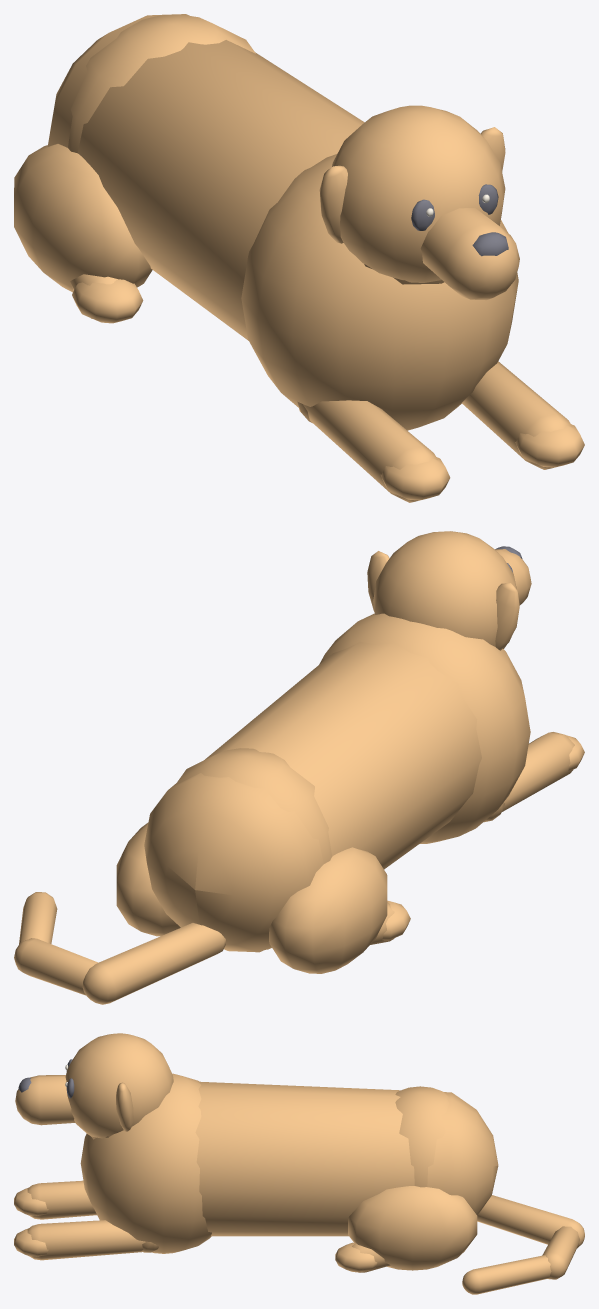
The model's file is companion-animals-and-pet-home-dog-retriever-lie-18e73fbd__20574.glb.
The picture shows the model from 3 angles, top to bottom: view 1: azimuth 30°, elevation 25°; view 2: azimuth 150°, elevation 25°; view 3: azimuth 270°, elevation 25°; orthographic projection. The views are drawn at different scales.
Visible parts, largest first — view 1: dog-retriever-lie; view 2: dog-retriever-lie; view 3: dog-retriever-lie.
Part boxes in pixels (x1=…): dog-retriever-lie: x1=14, y1=14, x2=584, y2=502; dog-retriever-lie: x1=14, y1=531, x2=584, y2=1004; dog-retriever-lie: x1=14, y1=1033, x2=584, y2=1294.
Size of the model in its own units: 0.4762 by 0.4124 by 1.02.
